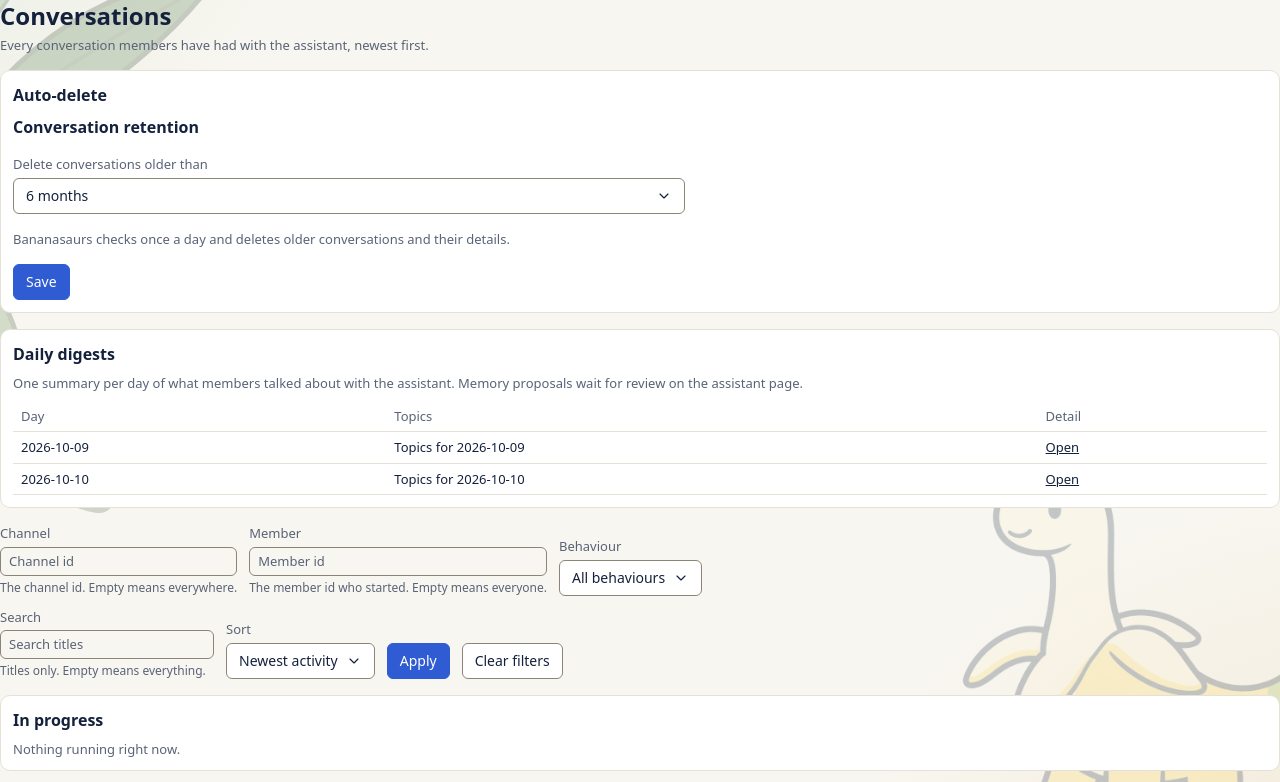
opens the selected daily summary
The width and height of the screenshot is (1280, 782).
Click the button "Open" in the row of "Topics for 2026-10-09": coordinates (1062, 448) 1046,438 -> 1079,457
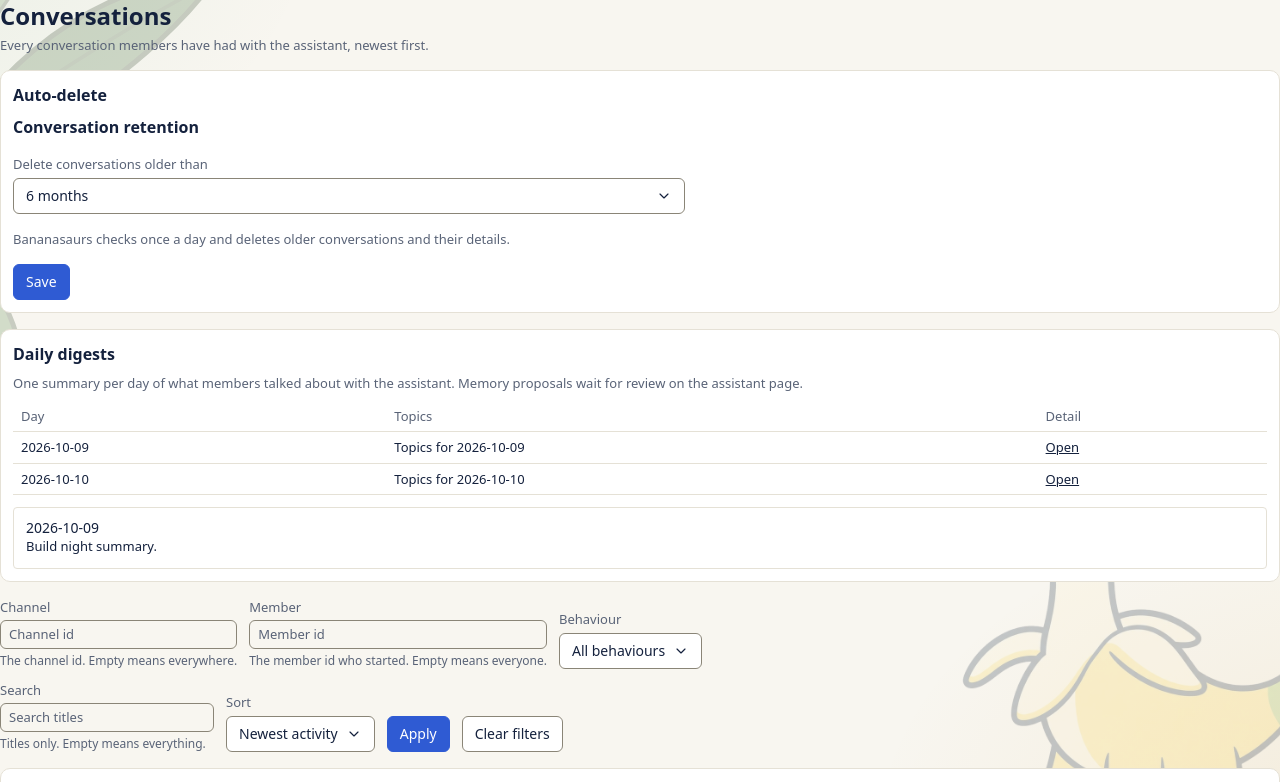
Expected: the text "Build night summary." is shown, 26,537 -> 157,555
